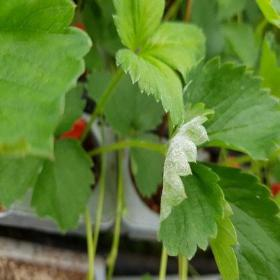Powdery Mildew Leaf: (156, 114, 226, 260)
